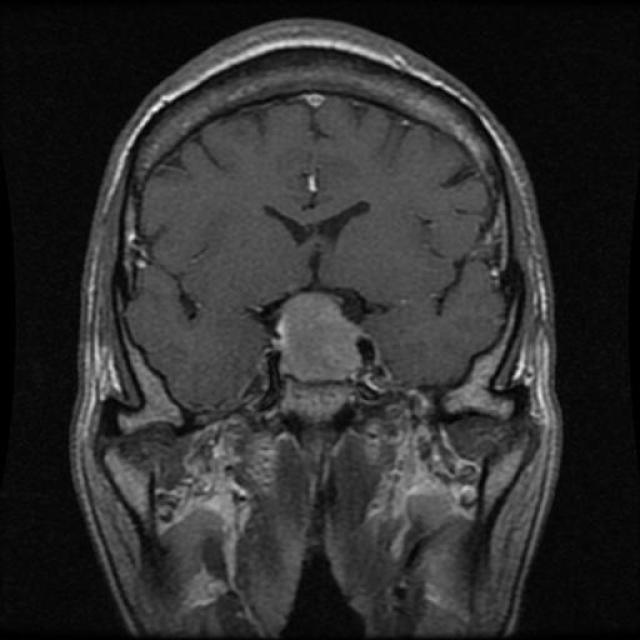pituitary: (271, 278, 365, 423)
